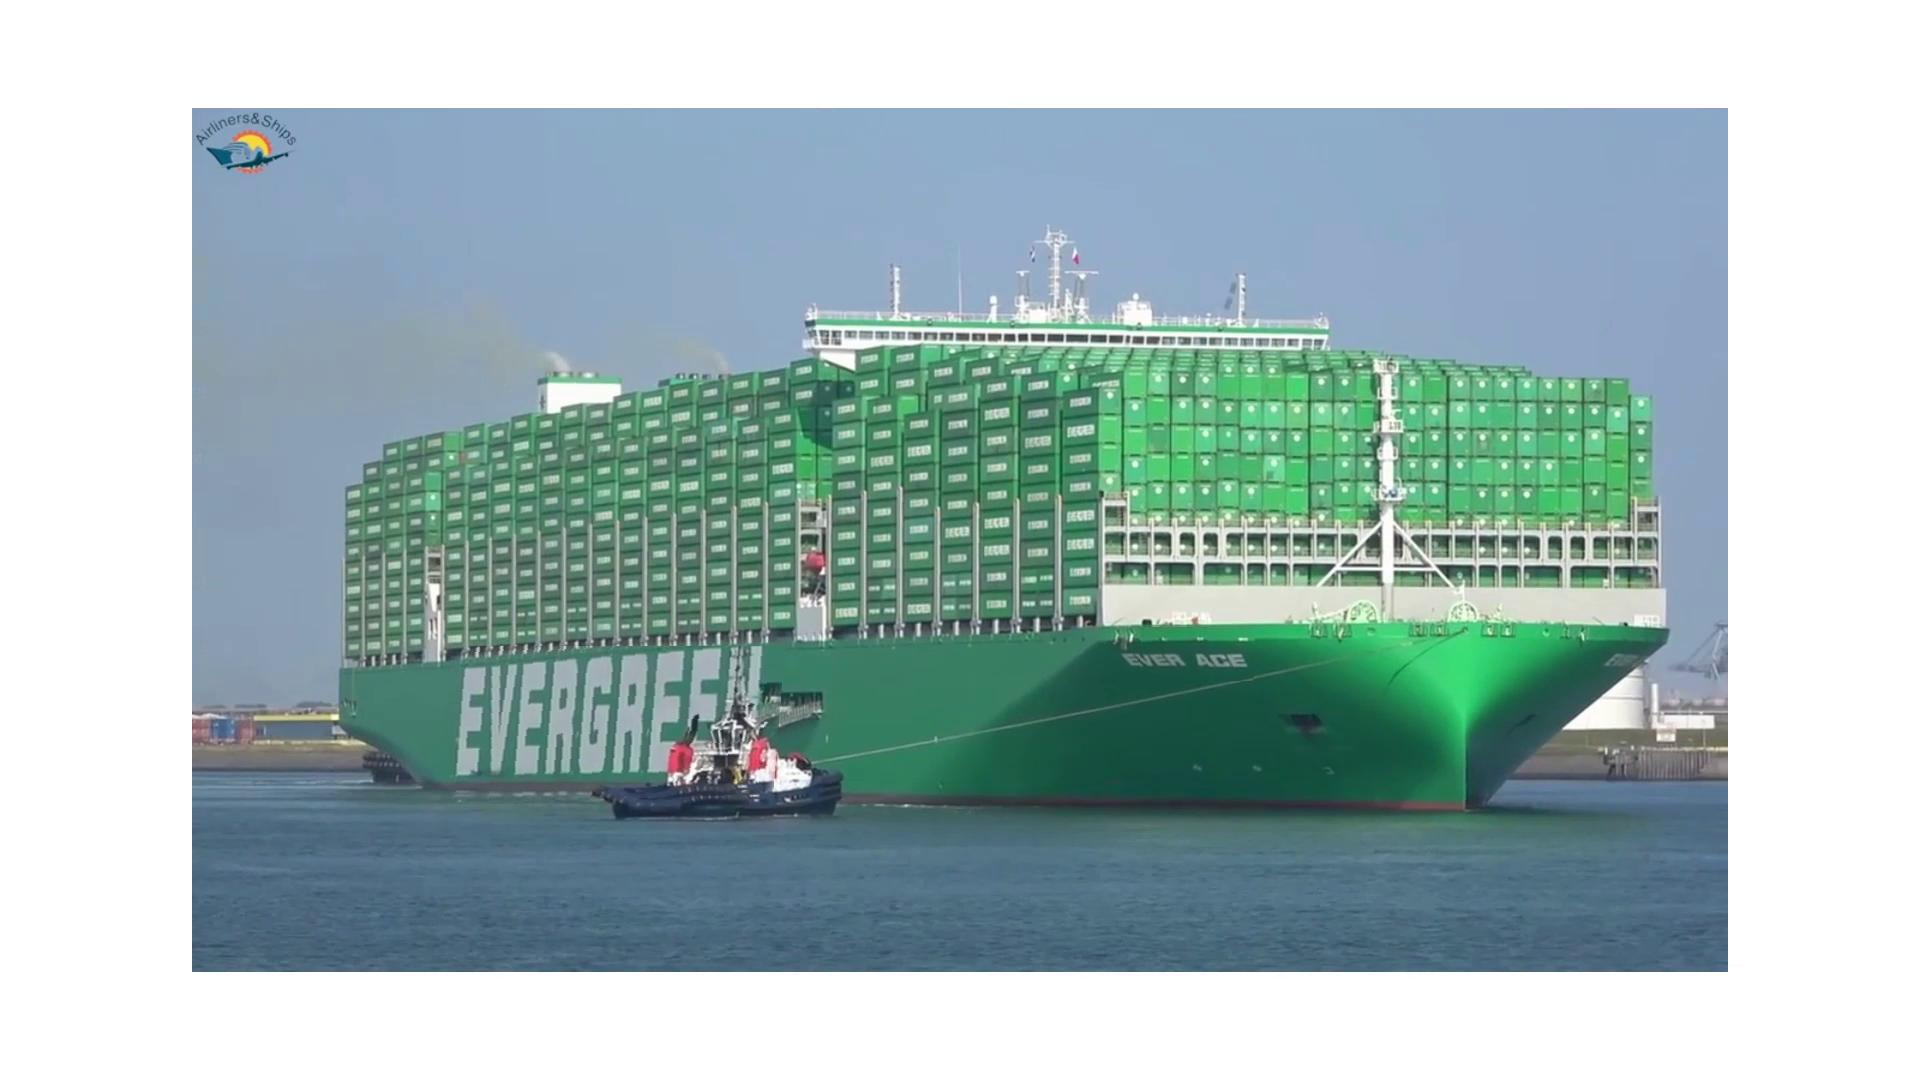OCR: (451, 646, 786, 804), (1106, 625, 1255, 680)
